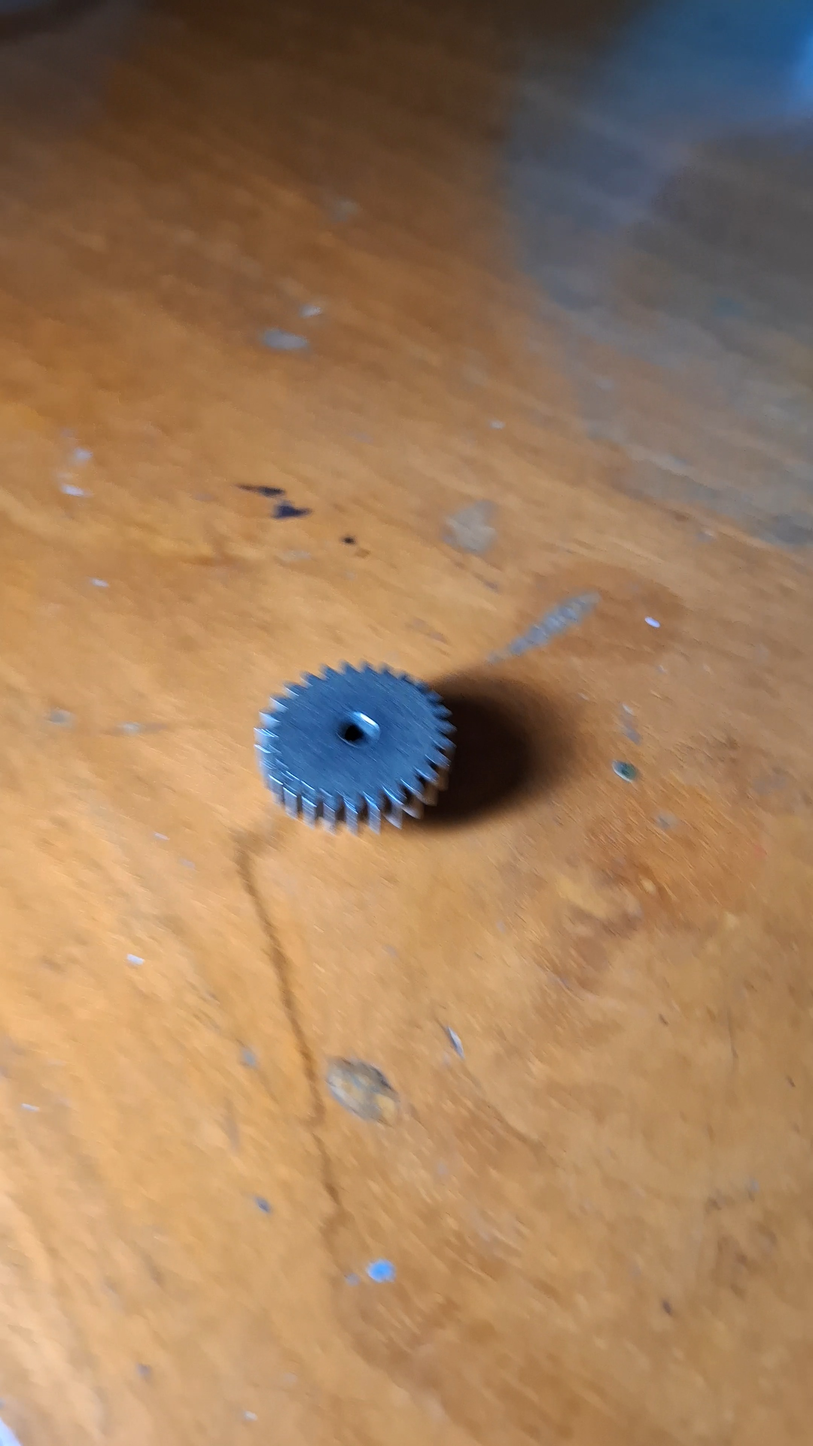spur gear: (256, 664, 454, 830)
